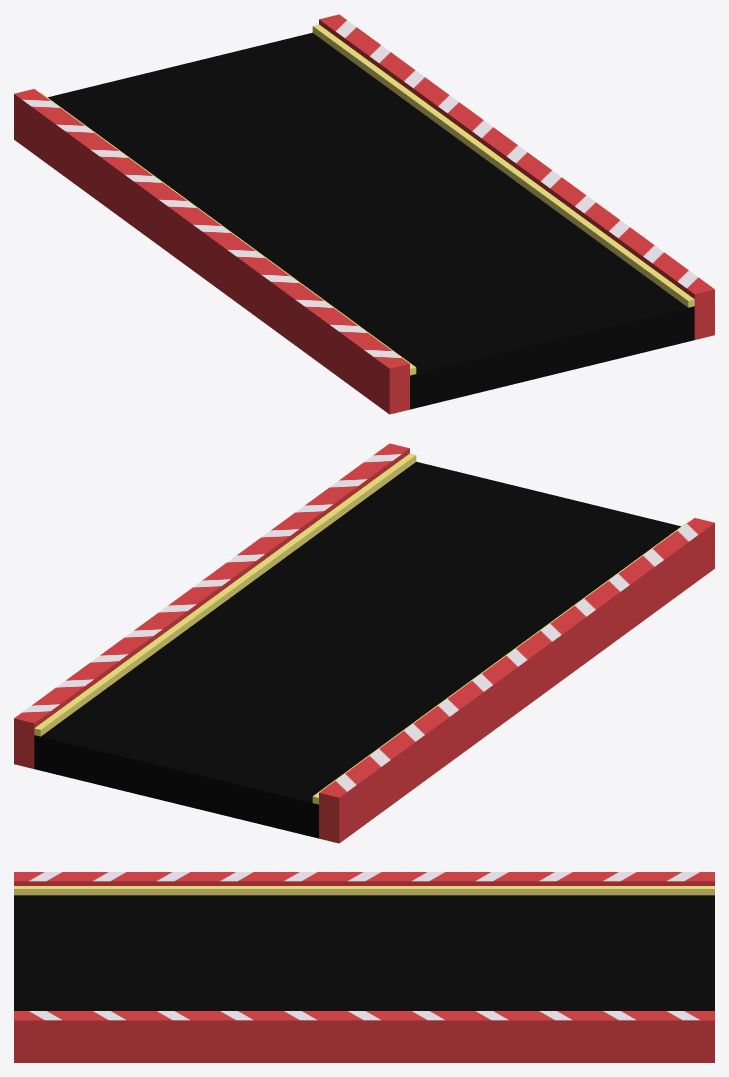
Rendered from Track - Straight (no direction).fbx.
3 views of the same model, one above another, from view 1: azimuth 30°, elevation 25°; view 2: azimuth 150°, elevation 25°; view 3: azimuth 270°, elevation 25° (orthographic). The views are drawn at different scales.
Parts seen in each view (by area): view 1: Track - Straight piece; view 2: Track - Straight piece; view 3: Track - Straight piece.
Boxes of the visible parts, left/top/right/bottom form: Track - Straight piece: left=14, top=14, right=714, bottom=414; Track - Straight piece: left=14, top=443, right=714, bottom=843; Track - Straight piece: left=14, top=872, right=714, bottom=1062.
Size of the model in its own units: 50 by 100 by 6.73.
